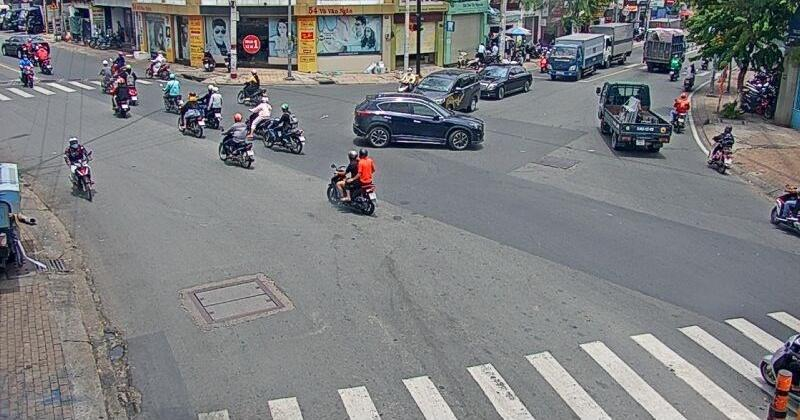xe hoi: (350, 96, 484, 152), (595, 79, 672, 155), (409, 68, 478, 111), (473, 61, 531, 97)
xe may: (327, 147, 379, 215), (216, 110, 264, 168), (261, 106, 303, 159), (65, 138, 94, 202), (707, 123, 734, 174), (177, 92, 204, 137), (160, 72, 183, 113), (669, 91, 690, 133)
xe tai: (547, 35, 609, 81)
